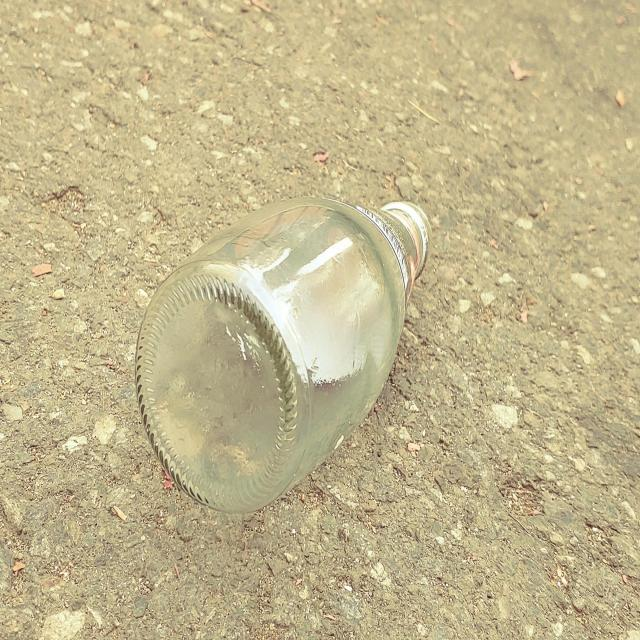glass: (135, 197, 430, 512)
